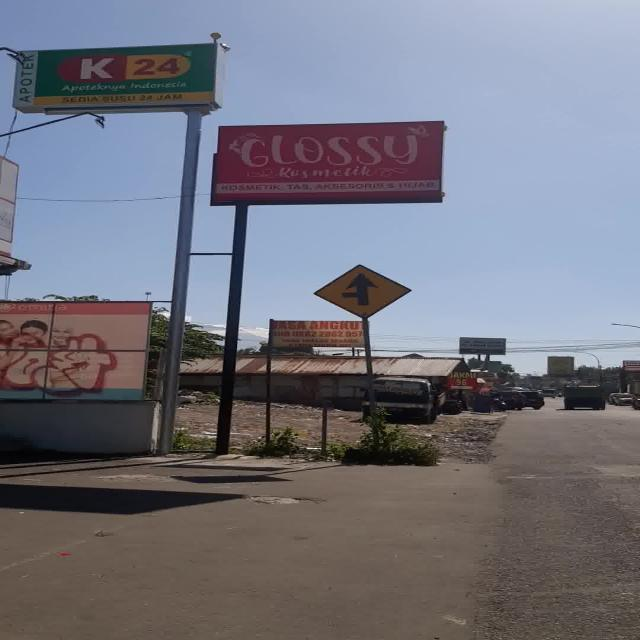Persimpangan 3 Prioritas Kiri: (312, 264, 412, 318)
